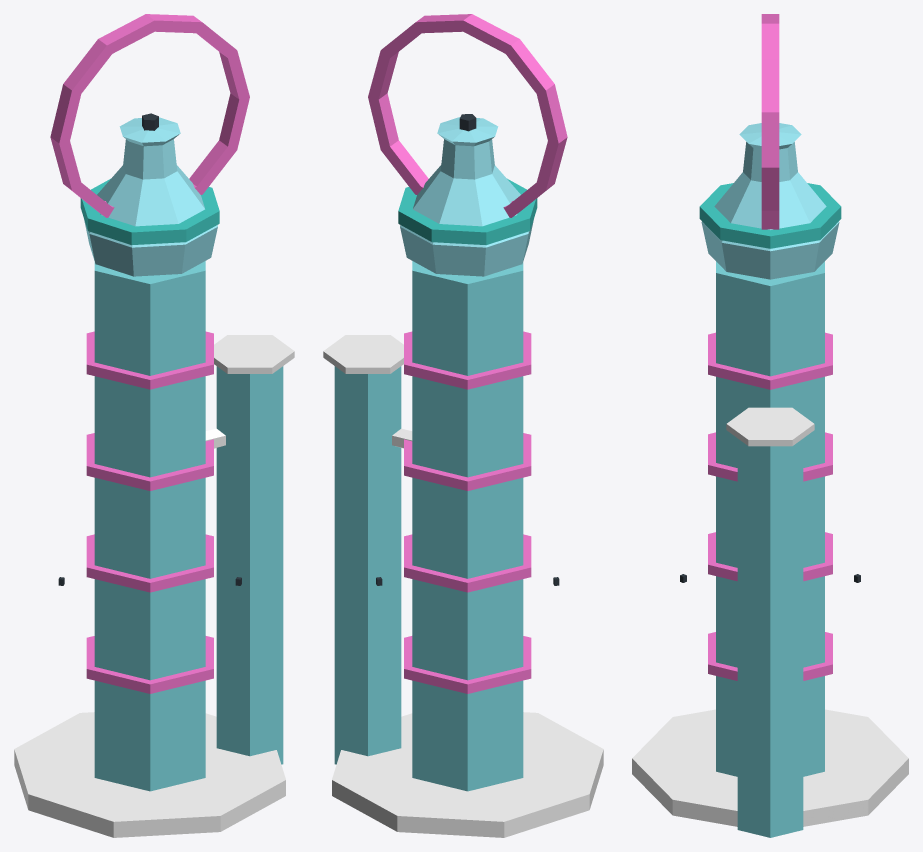
Rendered from lab-g3.glb.
3 renders of one model, left to right at view 1: azimuth 30°, elevation 25°; view 2: azimuth 150°, elevation 25°; view 3: azimuth 270°, elevation 25°, orthographic.
Parts seen in each view (by area): view 1: lab-g3; view 2: lab-g3; view 3: lab-g3.
Boxes of the visible parts, x1,y1,x2,y2 form: lab-g3: (14, 14, 294, 837); lab-g3: (323, 14, 603, 837); lab-g3: (632, 14, 908, 837).
Size of the model in its own units: 1.66 by 4.74 by 1.58.
